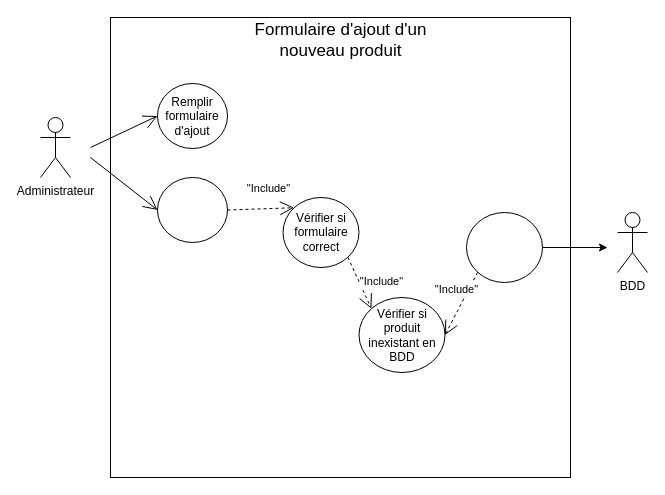
This 665x495 diagram has some shape labels left out. Each missing label, with the centre of its shape:
Ajouter le produit en BDD: the point at 504,247
Soumettre formulaire d'ajout: the point at 192,209
